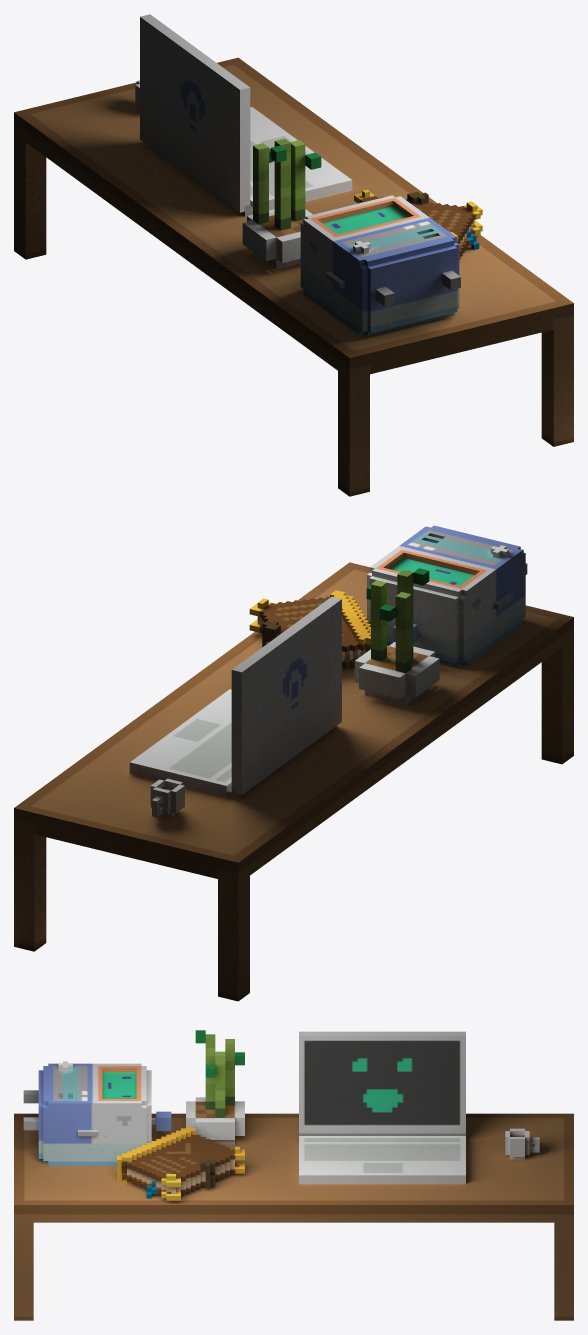
File: model_banner.glb
The picture shows the model from 3 angles, top to bottom: view 1: azimuth 30°, elevation 25°; view 2: azimuth 150°, elevation 25°; view 3: azimuth 270°, elevation 25°; orthographic projection. The views are drawn at different scales.
Visible parts, largest first — view 1: portrait; view 2: portrait; view 3: portrait.
Boxes of the visible parts, <box> form: portrait: <box>14,14,573,496</box>; portrait: <box>14,525,573,1001</box>; portrait: <box>14,1030,573,1320</box>.
Size of the model in its own units: 4.4 by 5 by 11.4.
Materials: 1 (1 with a texture image).
